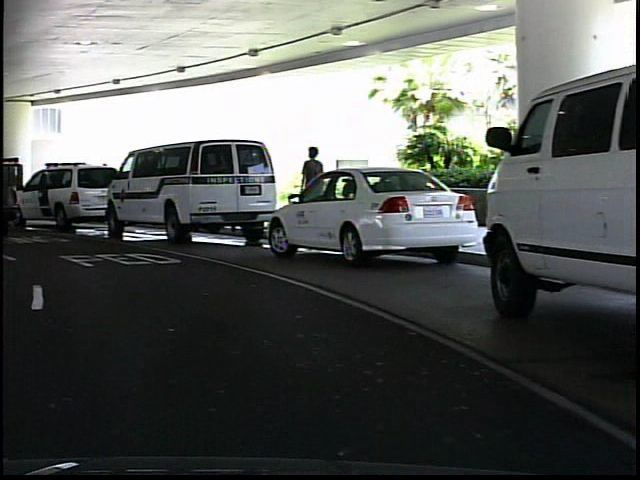person: (293, 143, 327, 231)
